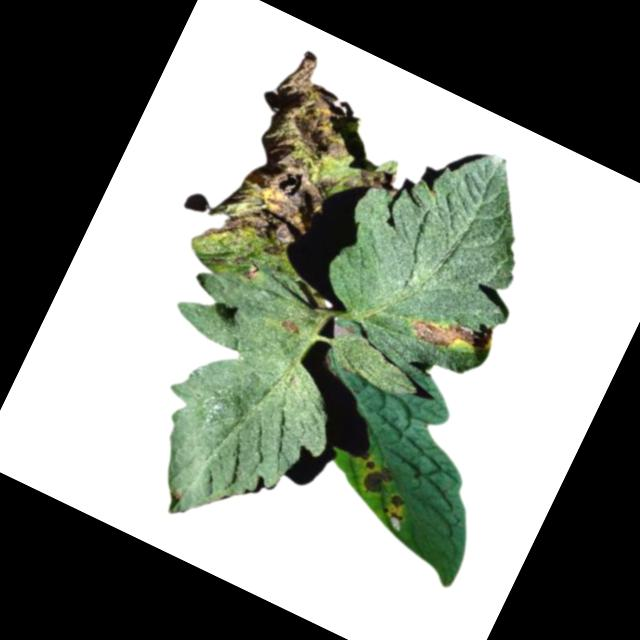Early_blight: (187, 41, 438, 326), (409, 295, 499, 367), (350, 451, 397, 496), (379, 487, 413, 524), (276, 313, 305, 337)
